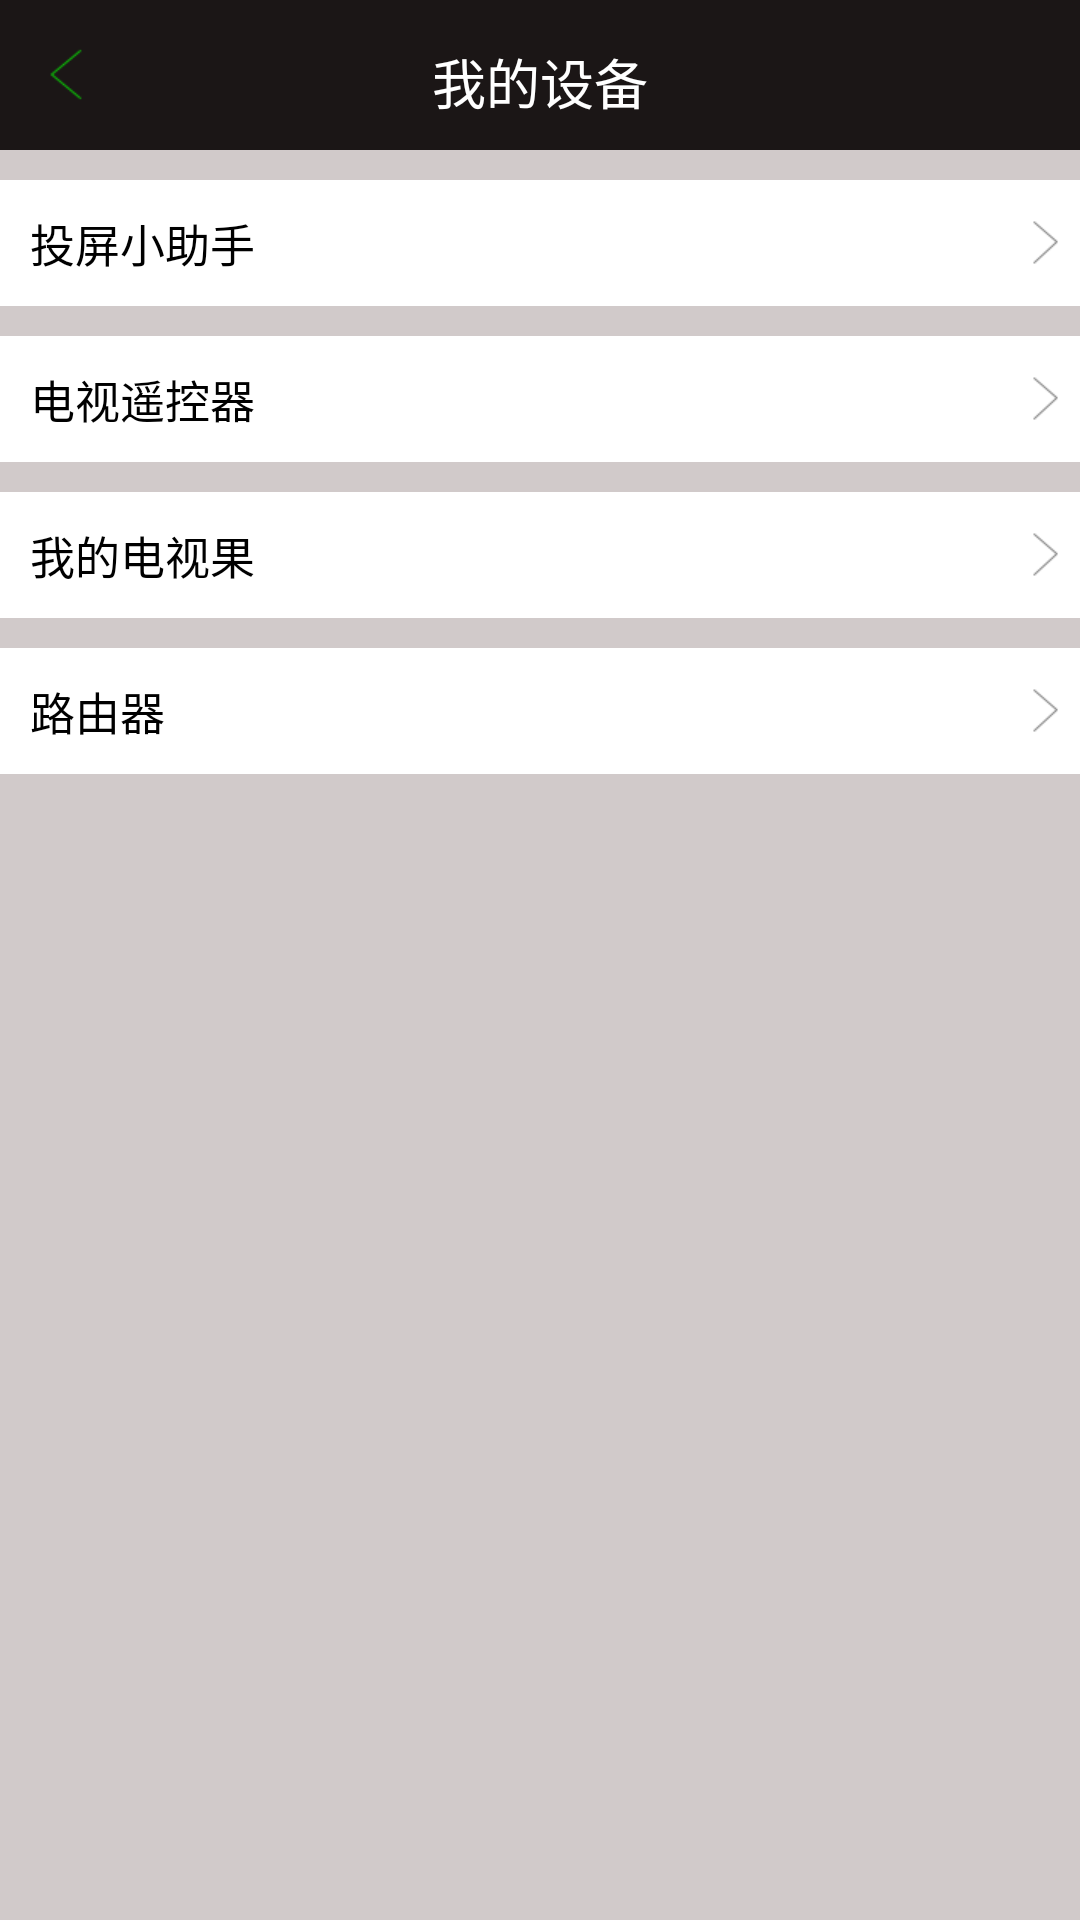

Screen size 1080px x 1920px. Icon name, then its center in pixels as point (x, y):
arrow right: point (1045, 242), point (1045, 398), point (1045, 554), point (1045, 710)
phone account back: point (66, 74)
